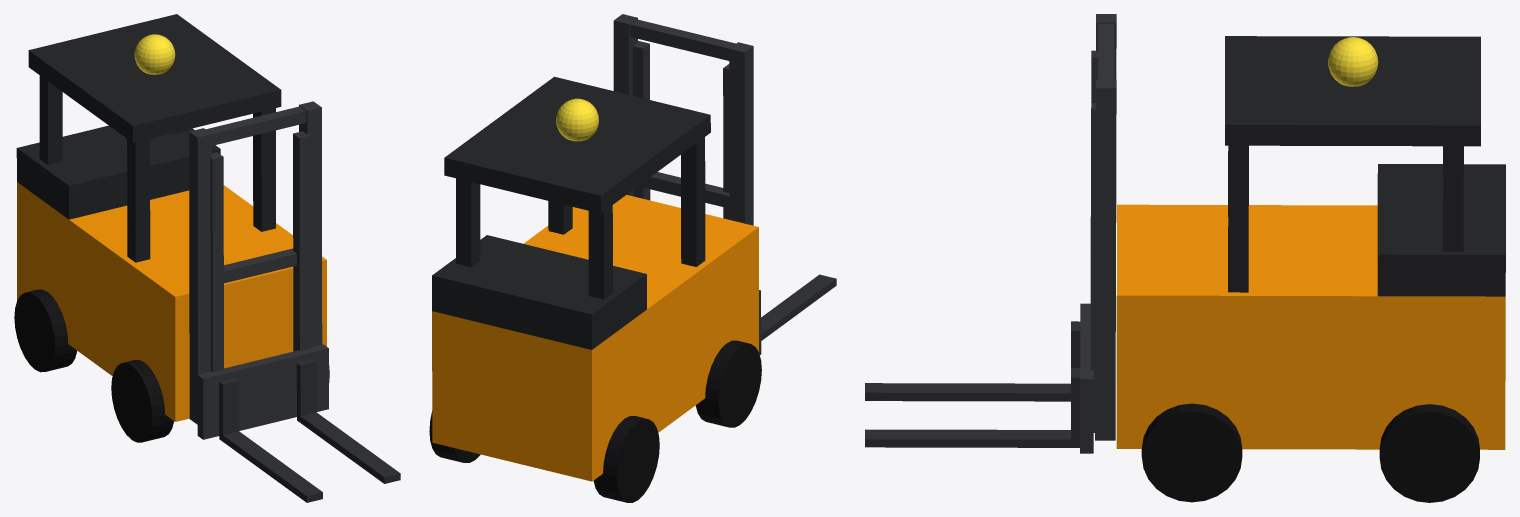
Rendered from forklift.obj.
3 renders of one model, left to right at view 1: azimuth 30°, elevation 25°; view 2: azimuth 150°, elevation 25°; view 3: azimuth 270°, elevation 25°, orthographic. The views are drawn at different scales.
Visible parts, largest first — view 1: Forklift; view 2: Forklift; view 3: Forklift.
Part boxes in pixels (left/top/right/bottom): Forklift: left=14, top=14, right=400, bottom=502; Forklift: left=429, top=14, right=836, bottom=502; Forklift: left=865, top=14, right=1505, bottom=502.
Bounding box in the file's own units: 1.1 × 1.98 × 2.8.
